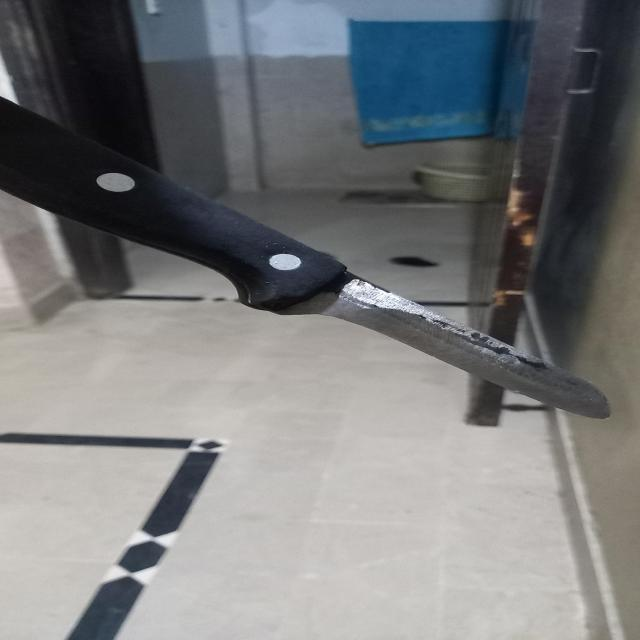faca: (1, 96, 610, 420)
